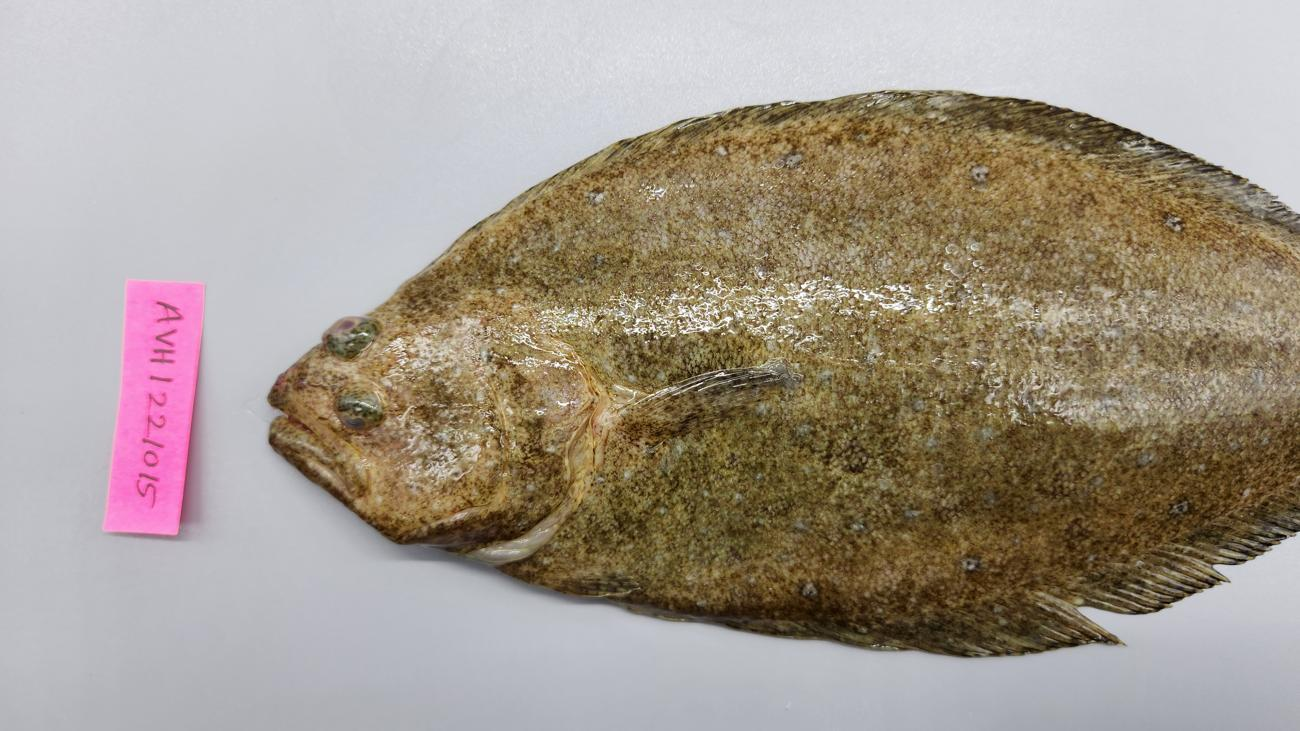VIDYH: (700, 480, 1263, 613)
